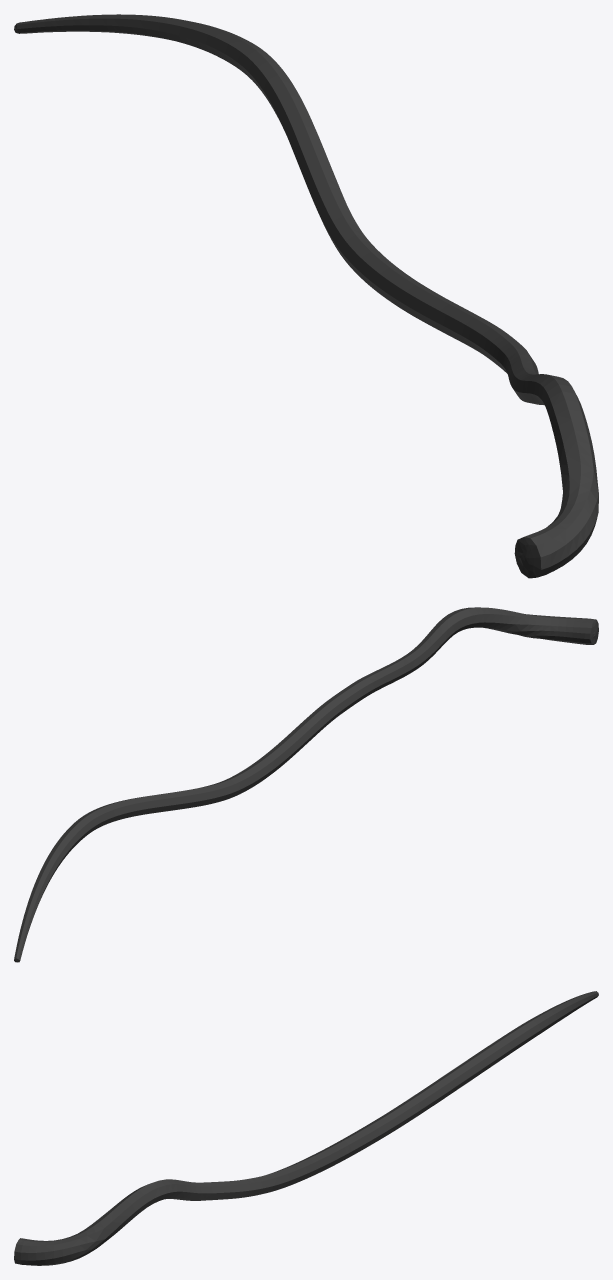
Rendered from Infraorbital_L.glb.
3 renders of one model, top to bottom at view 1: azimuth 30°, elevation 25°; view 2: azimuth 150°, elevation 25°; view 3: azimuth 330°, elevation 25°, orthographic. The views are drawn at different scales.
Parts seen in each view (by area): view 1: Infraorbital_L; view 2: Infraorbital_L; view 3: Infraorbital_L.
Part boxes in pixels (x1,y1,x2,y2): Infraorbital_L: (14, 14, 598, 578); Infraorbital_L: (14, 607, 598, 962); Infraorbital_L: (14, 991, 598, 1265).
Bounding box in the file's own units: 0.1528 × 0.0669 × 0.6594.
Materials: 1 (1 with a texture image).
